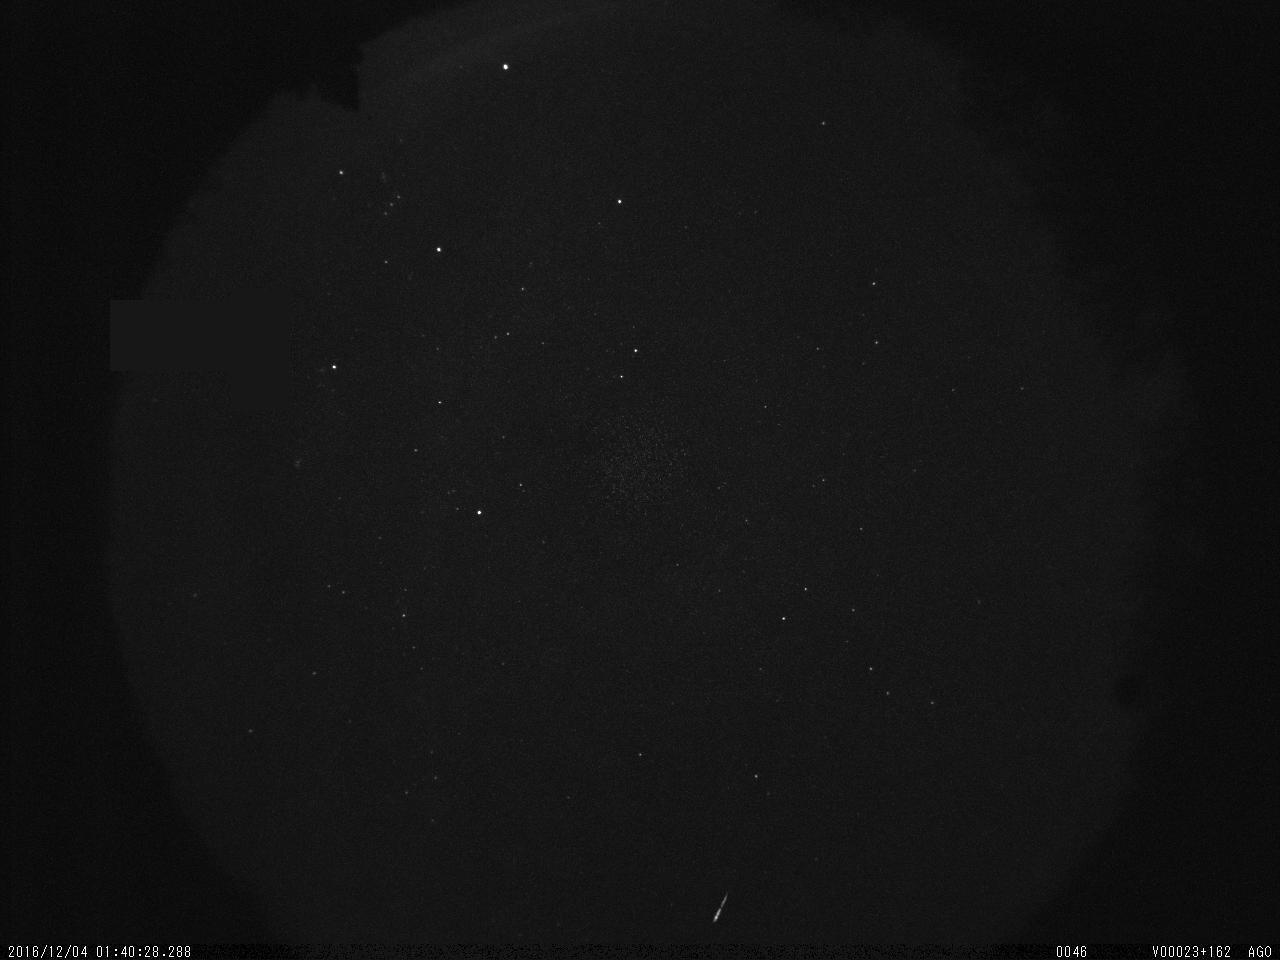meteor: (680, 888, 760, 930)
